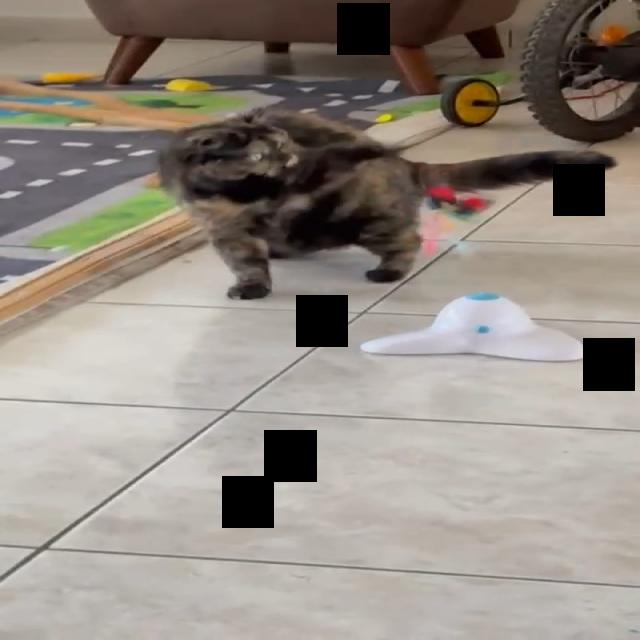authorized: (153, 105, 618, 300)
